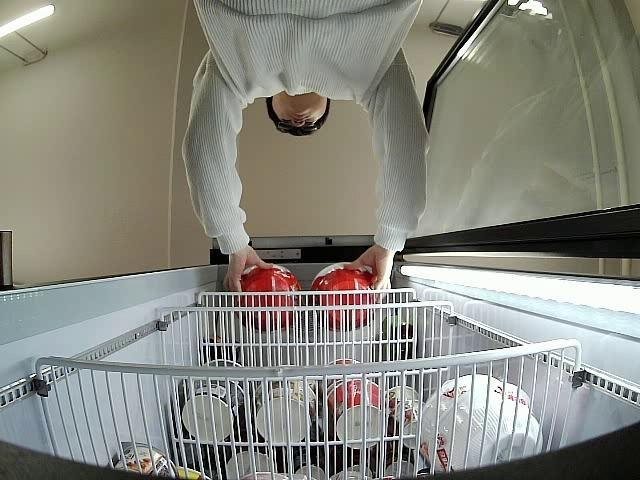10_wangTtukkeong: (312, 264, 378, 330), (237, 266, 301, 330)
